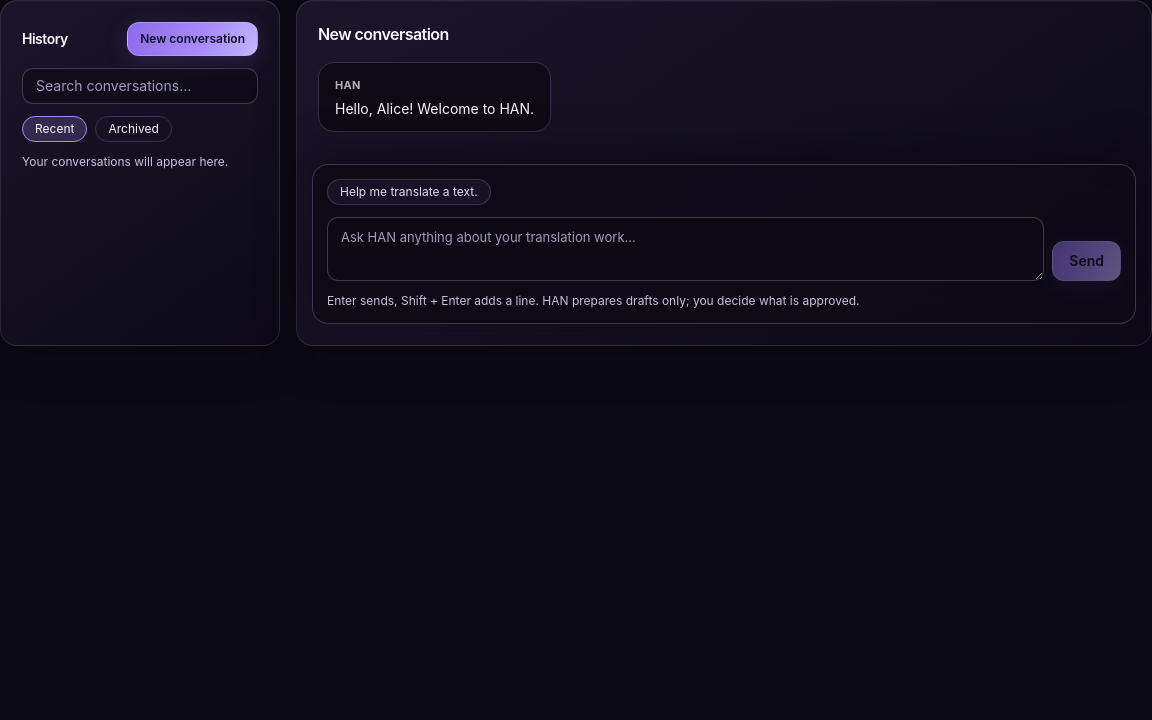
Test: Chat › opens a new conversation with the stored greeting and starters, and sends to that conversation
Check: the text "Hello, Alice! Welcome to HAN." is shown, box [335,99,534,119]
Click the button "Help me translate a text.": coordinates (409, 192) [327,179,491,205]
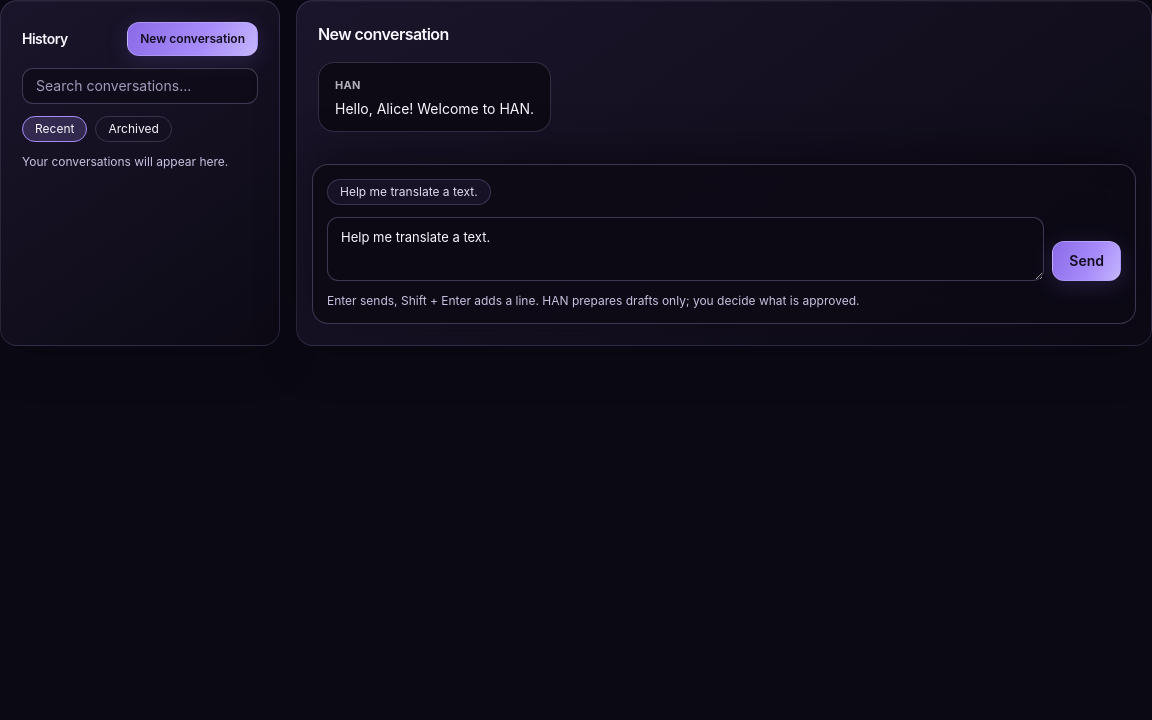
Click the button "Send": coordinates (1087, 261) [1052,241,1121,281]
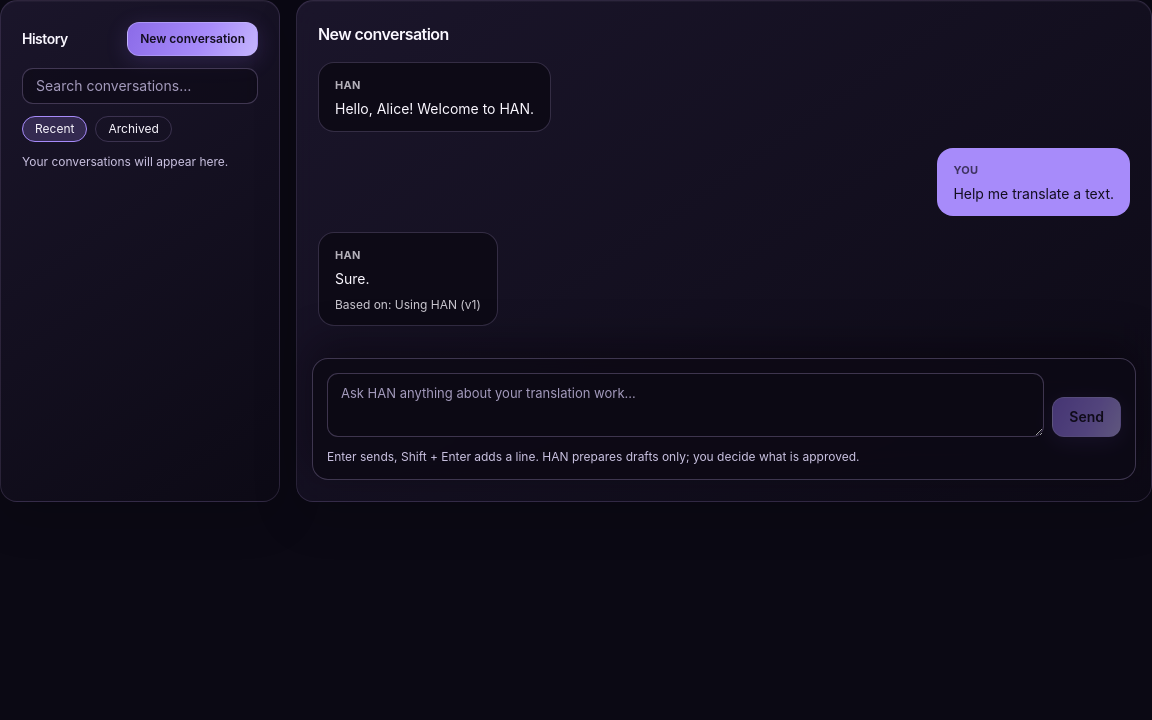
Check: the text "Based on: Using HAN (v1)" is shown, box [335,297,481,313]
